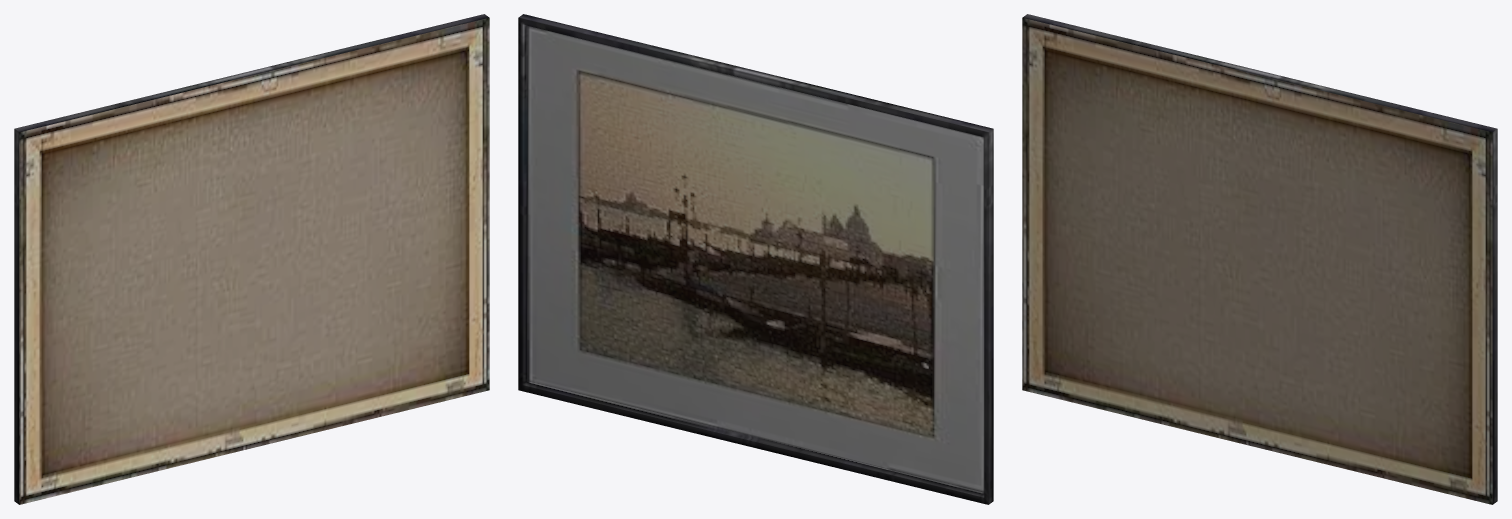
Rendered from offpaintingd.glb.
3 views of the same model, side by side, from view 1: azimuth 30°, elevation 25°; view 2: azimuth 150°, elevation 25°; view 3: azimuth 330°, elevation 25° (orthographic).
Visible parts, largest first — view 1: 0_Poster_backing, 1_offpaintingd; view 2: 1_offpaintingd; view 3: 0_Poster_backing, 1_offpaintingd.
Part boxes in pixels (left/top/right/bottom): 0_Poster_backing: left=19, top=17, right=489, bottom=504; 1_offpaintingd: left=14, top=14, right=488, bottom=504; 1_offpaintingd: left=518, top=14, right=993, bottom=504; 0_Poster_backing: left=1022, top=17, right=1492, bottom=504; 1_offpaintingd: left=1023, top=14, right=1497, bottom=504.
Bounding box in the file's own units: 0.9682 × 0.7334 × 0.0178.
2 materials, 2 textured.
